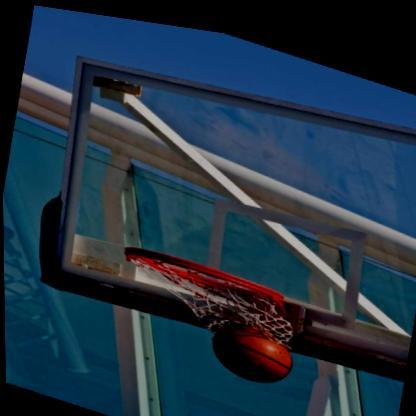basketball: (205, 308, 297, 385)
rim: (115, 234, 297, 332)
